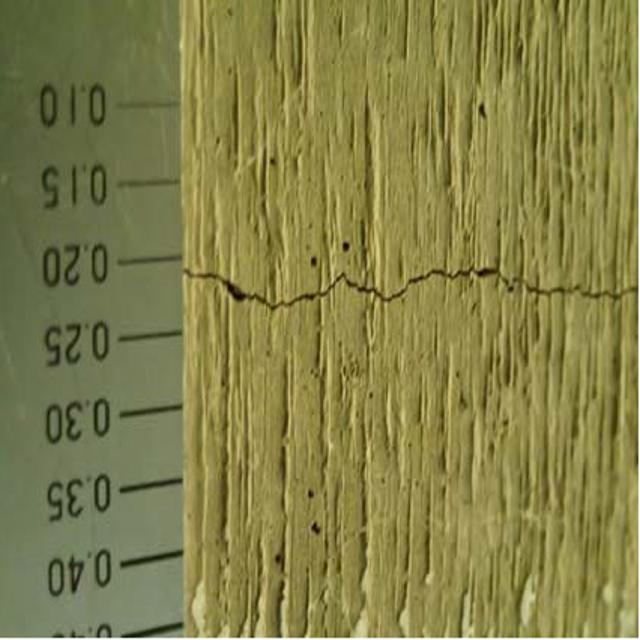crack: (180, 246, 630, 337)
